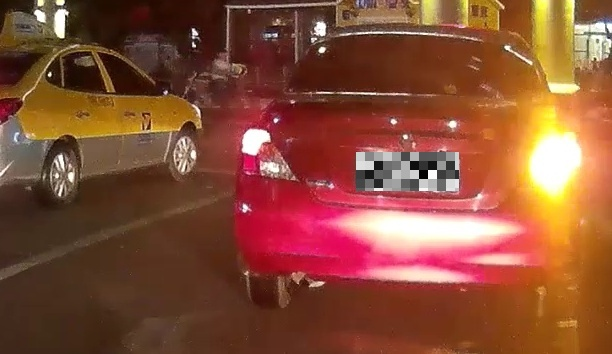L_light: (240, 126, 298, 180)
R_light: (528, 131, 578, 190)
T_light: (379, 33, 418, 42)
night-right: (232, 27, 582, 310)
plate_1: (356, 152, 459, 191)
